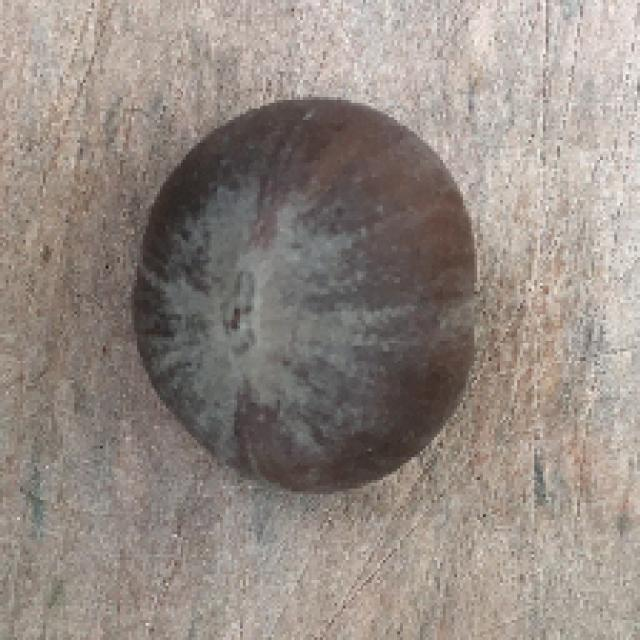damagedHazelnut: (130, 97, 482, 494)
